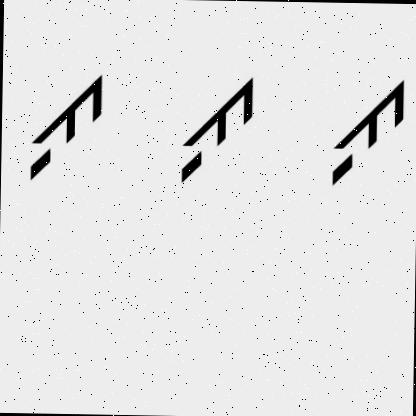ku: (24, 57, 112, 188), (168, 71, 266, 183), (322, 70, 412, 190)
